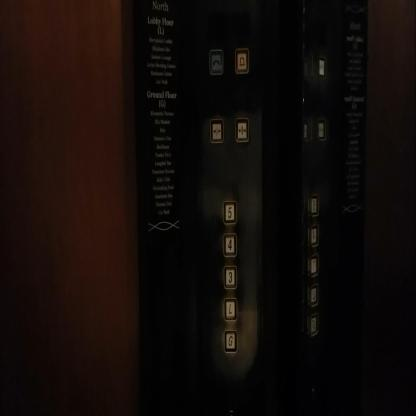3: (222, 262, 238, 290)
4: (221, 230, 238, 259)
5: (221, 198, 238, 226)
G: (222, 326, 238, 355)
L: (223, 295, 238, 324)
alarm: (233, 46, 250, 76)
call: (208, 47, 224, 77)
close: (233, 114, 250, 145)
open: (208, 116, 225, 146)
unknown: (306, 218, 321, 250), (306, 280, 320, 310), (306, 252, 320, 279), (306, 311, 320, 338), (307, 190, 320, 219)
